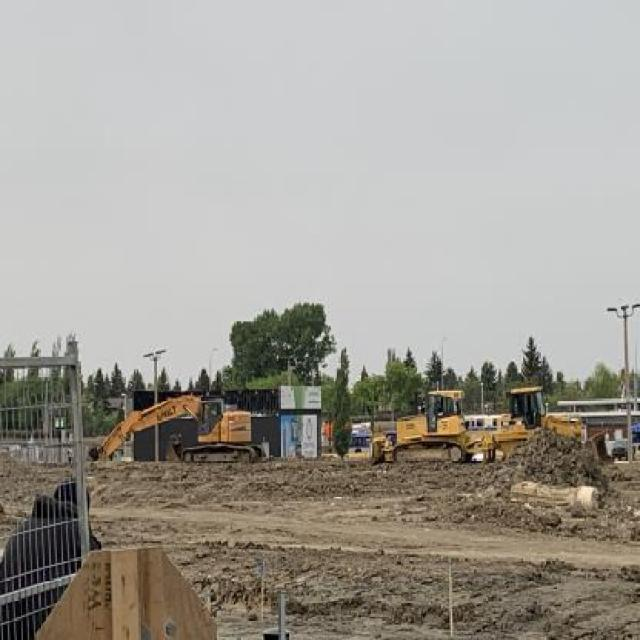buldozerpayloadergrader: (369, 386, 497, 472)
excavator: (91, 395, 266, 473)
